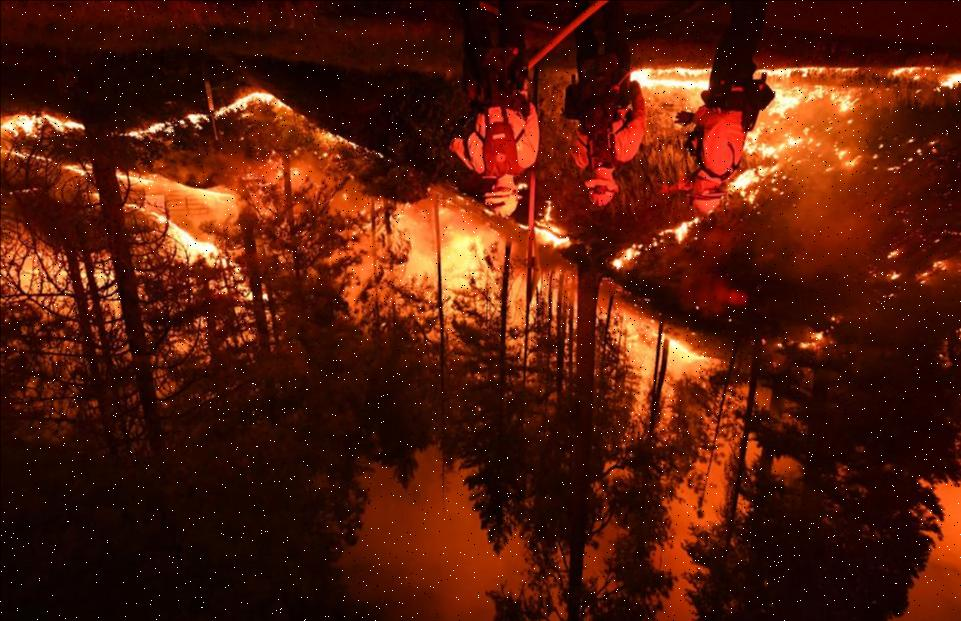fire: (2, 247, 961, 393), (4, 63, 441, 241), (650, 53, 961, 241)
